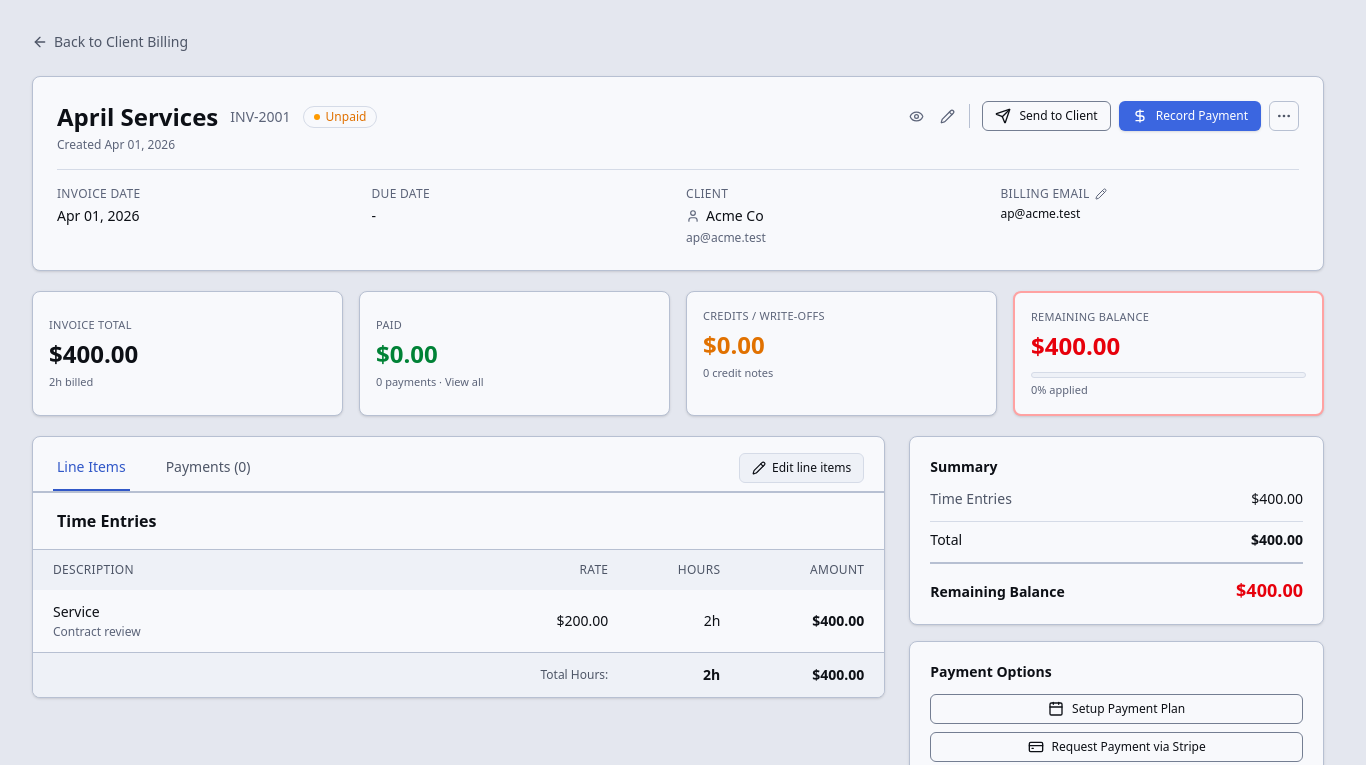
it: adding a credit note › falls back to the type name as the description when none is typed
The image size is (1366, 765).
Click the button named "More actions" at (1284, 116), box x1=1269 y1=101 x2=1299 y2=131
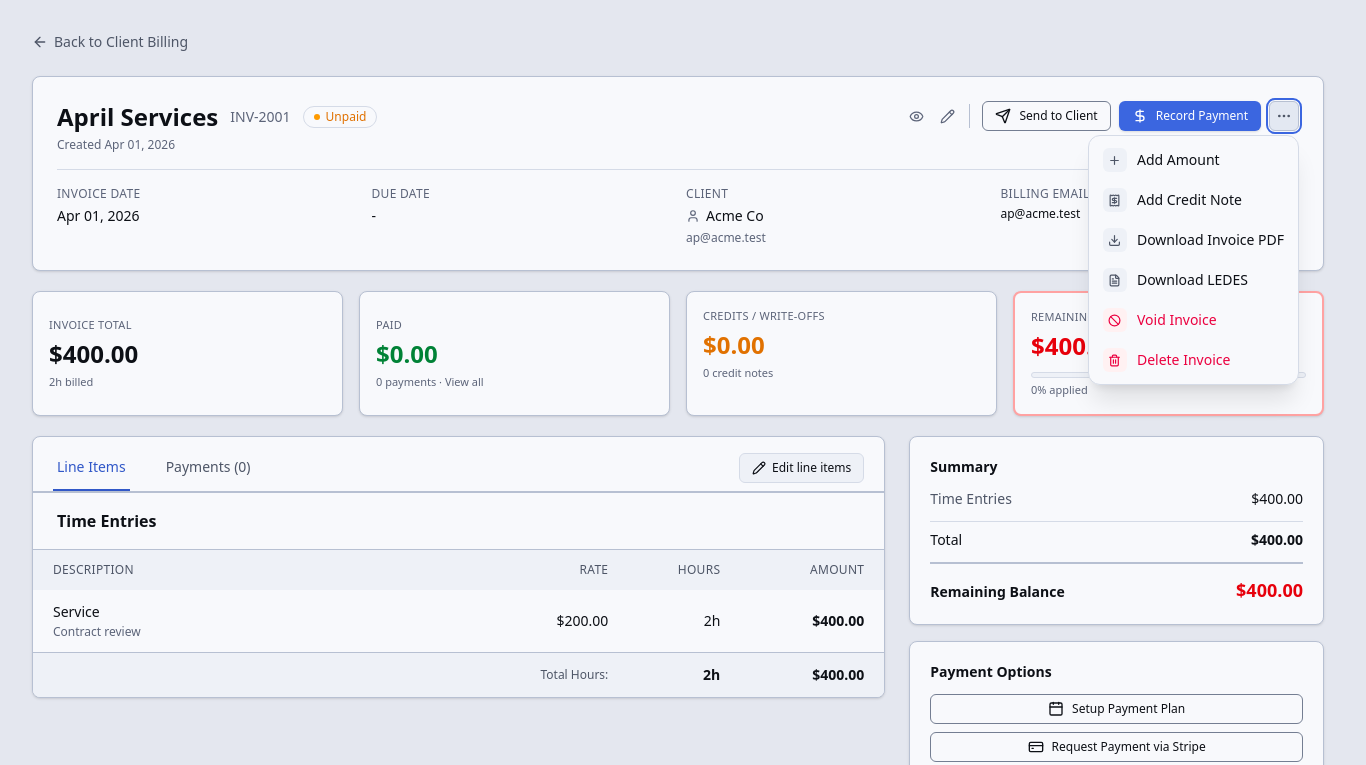
Click the button "Add Credit Note" at (1193, 200), box x1=1093 y1=180 x2=1294 y2=220
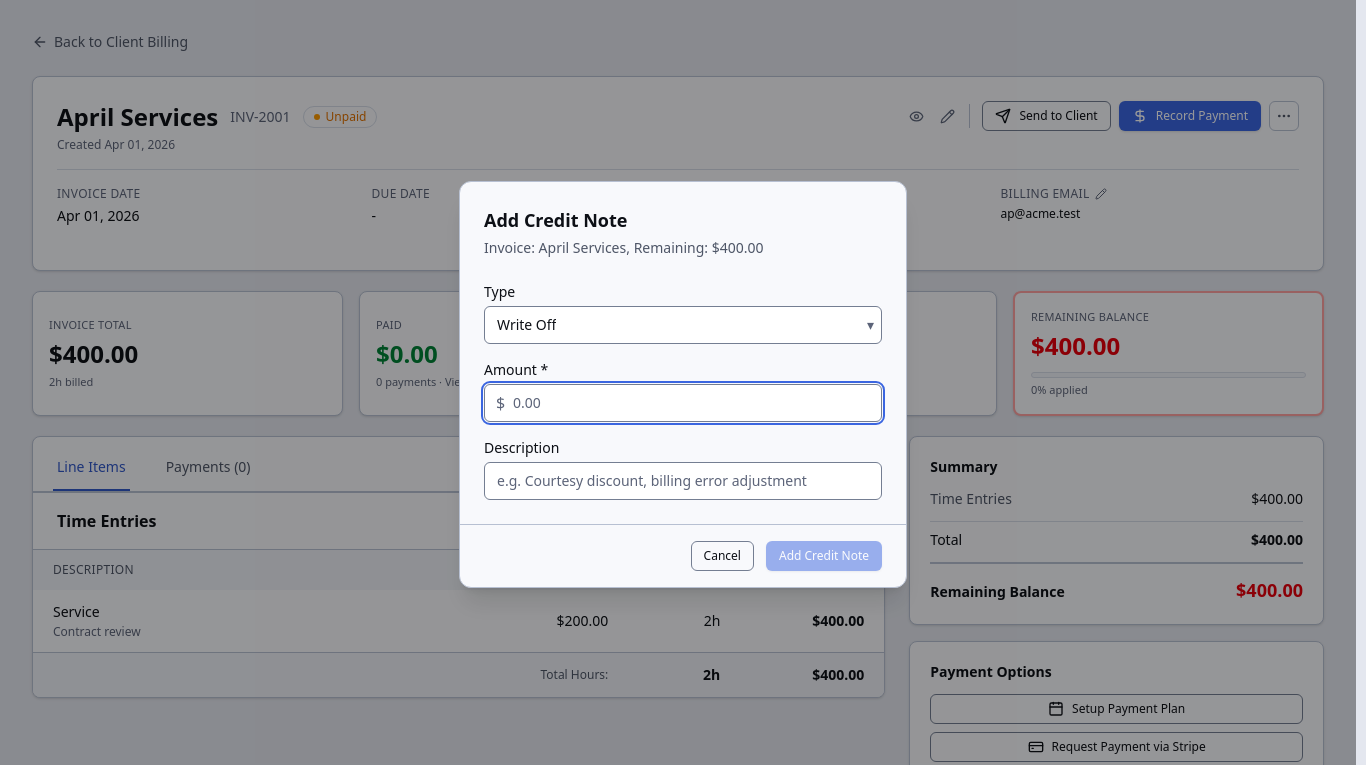
Check: the text "Invoice: April Services, Remaining: $400.00" is shown, box x1=484 y1=238 x2=764 y2=256
Type "40" into the number field with placeholder "0.00" at (683, 402), box x1=484 y1=384 x2=882 y2=422
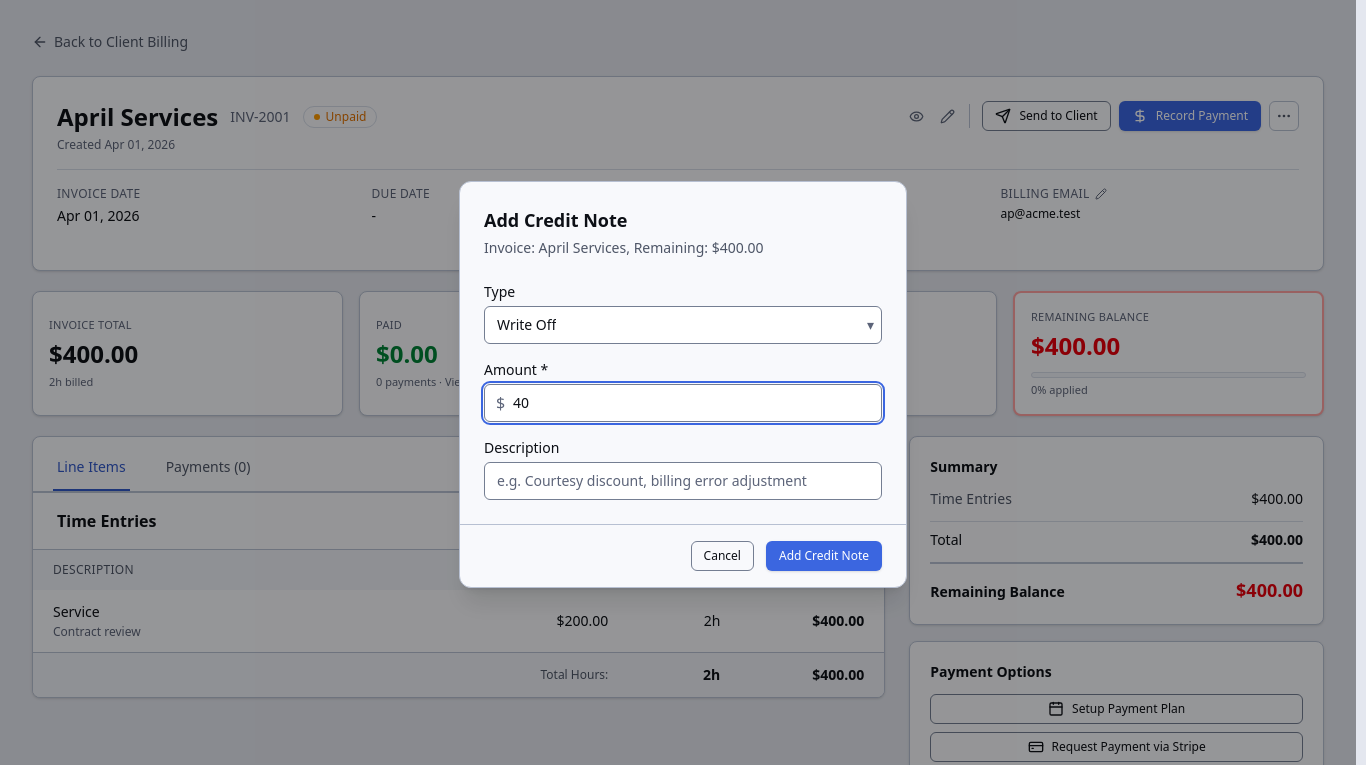
Click the button "Add Credit Note" at (824, 556), box x1=766 y1=540 x2=882 y2=570
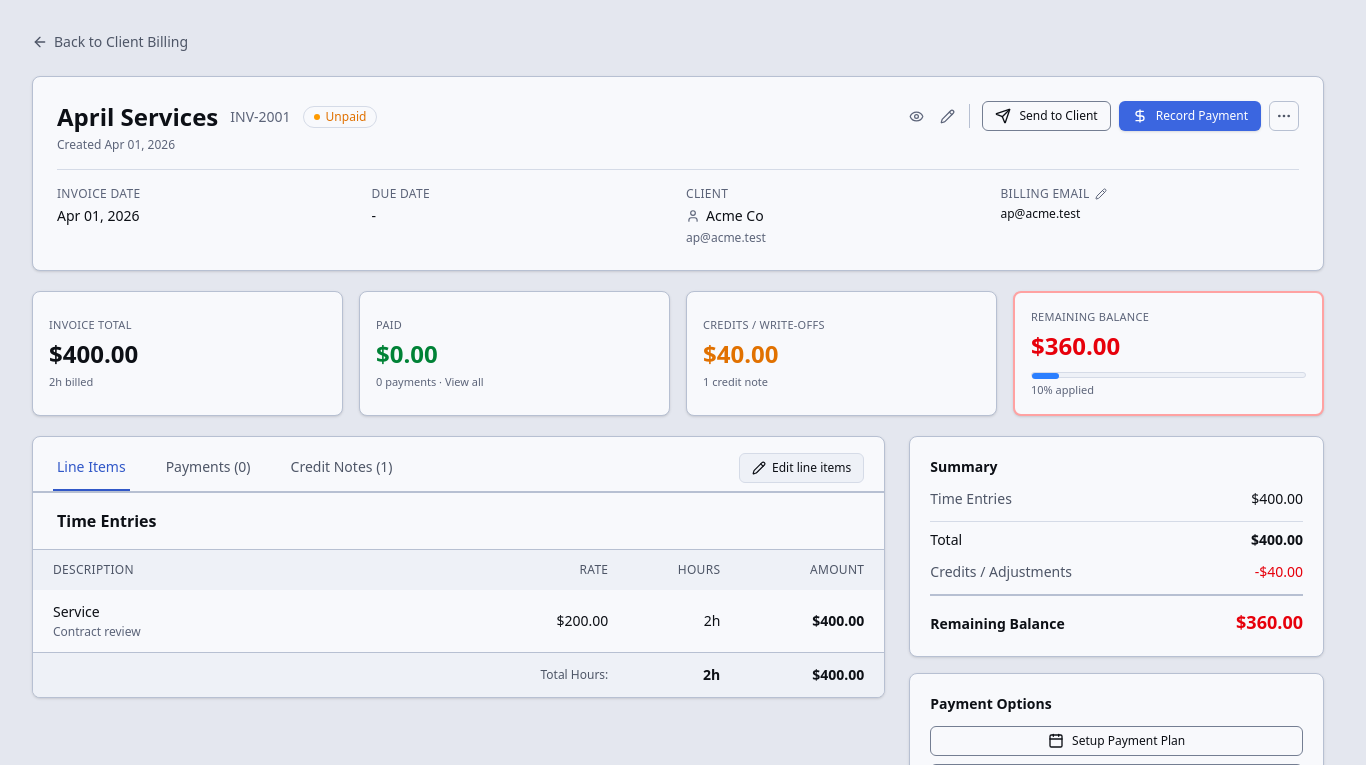
Check: the button "Credit Notes (1)" is shown, box x1=287 y1=445 x2=397 y2=491
Check: the text "-$40.00" is shown, box x1=1255 y1=562 x2=1303 y2=582
